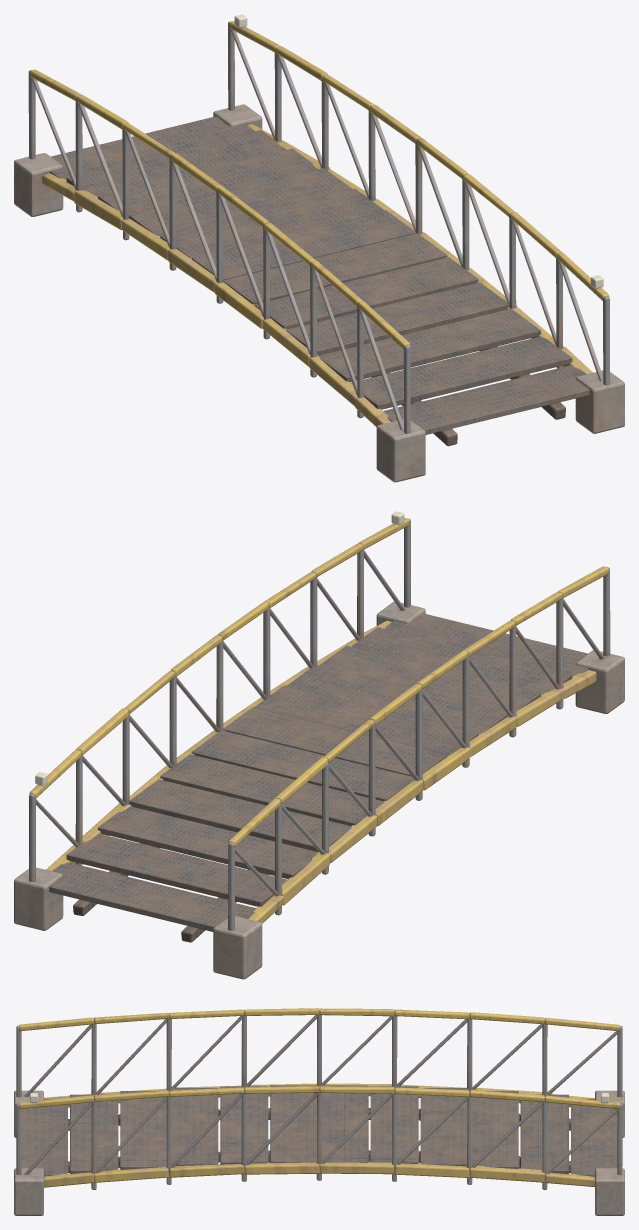
Rendered from bridge.glb.
The picture shows the model from 3 angles, top to bottom: view 1: azimuth 30°, elevation 25°; view 2: azimuth 150°, elevation 25°; view 3: azimuth 270°, elevation 25°; orthographic projection. The views are drawn at different scales.
Visible parts, largest first — view 1: bridge; view 2: bridge; view 3: bridge.
Part boxes in pixels (left/top/right/bottom): bridge: left=14, top=14, right=624, bottom=482; bridge: left=14, top=511, right=624, bottom=979; bridge: left=14, top=1008, right=624, bottom=1215.
Bounding box in the file's own units: 2.14 × 1.36 × 6.1.
1 material, 1 textured.
